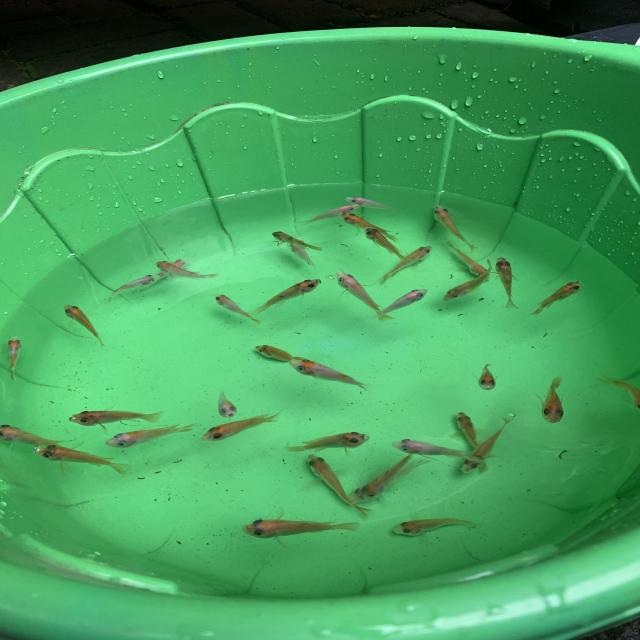nila: (299, 448, 374, 521), (350, 438, 420, 502), (456, 412, 520, 476), (29, 440, 137, 476), (361, 457, 435, 508), (332, 268, 399, 323), (286, 353, 377, 392), (392, 432, 498, 465), (231, 513, 371, 537), (1, 419, 88, 457), (252, 276, 328, 318), (521, 276, 592, 320), (98, 419, 212, 446), (453, 403, 495, 473), (440, 235, 496, 287), (376, 241, 440, 285), (442, 255, 494, 307), (197, 411, 286, 441), (334, 209, 406, 244), (388, 514, 487, 539), (360, 223, 417, 265), (282, 428, 374, 454), (492, 251, 528, 313), (432, 203, 481, 248), (210, 289, 270, 325), (367, 287, 432, 319), (61, 300, 108, 344), (534, 374, 573, 426), (59, 406, 170, 424), (146, 257, 227, 280), (103, 272, 161, 304), (601, 372, 640, 419), (248, 344, 320, 368), (151, 250, 194, 285), (284, 238, 327, 270), (464, 359, 502, 395), (269, 230, 334, 251), (0, 334, 25, 382), (343, 193, 407, 211), (304, 202, 358, 223), (211, 387, 239, 418)
